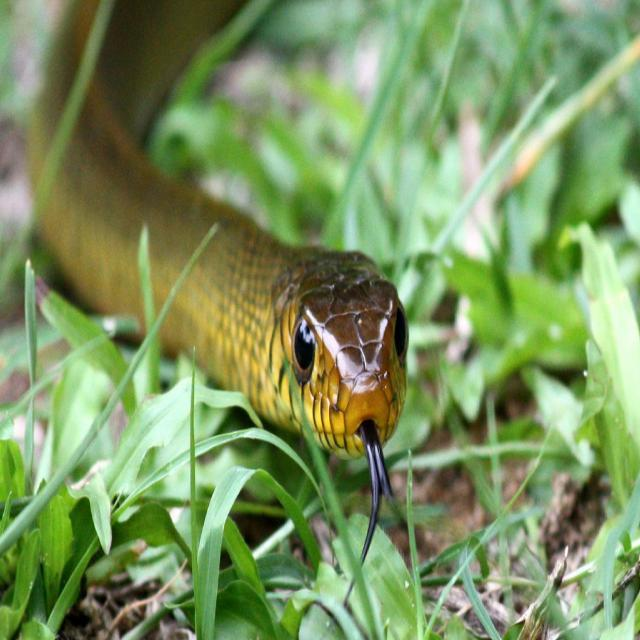Snake: (26, 2, 410, 569)
